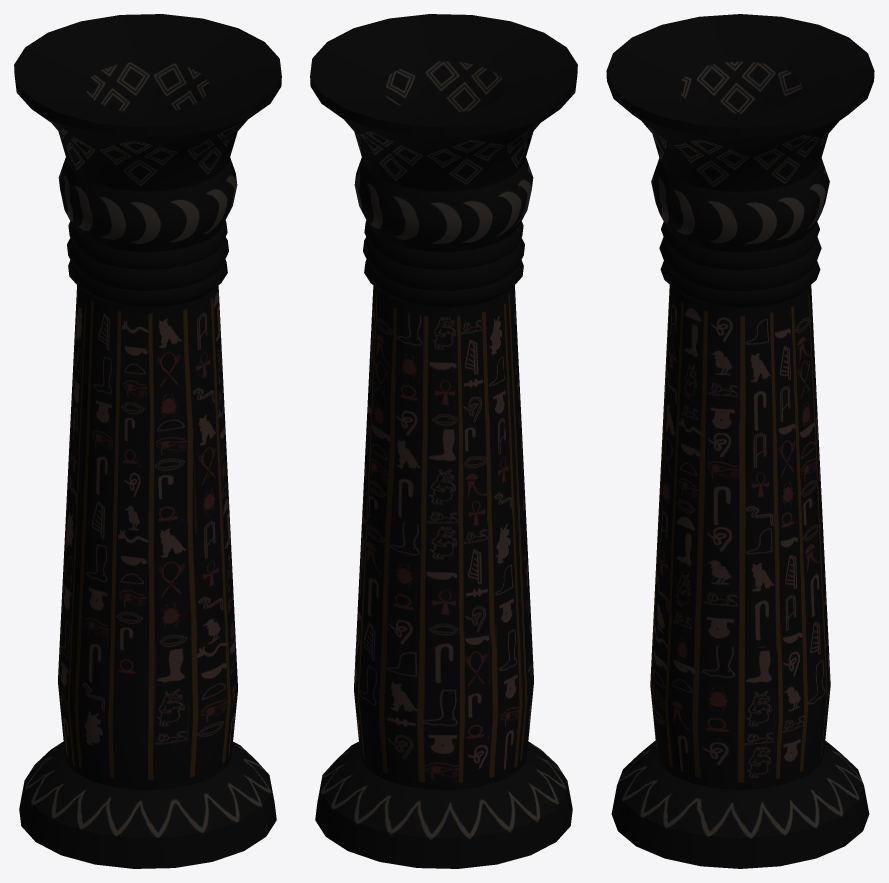
The model's file is egyptian_pillar_v2.glb.
3 views of the same model, side by side, from view 1: azimuth 30°, elevation 25°; view 2: azimuth 150°, elevation 25°; view 3: azimuth 270°, elevation 25° (orthographic).
Parts seen in each view (by area): view 1: pCylinder1; view 2: pCylinder1; view 3: pCylinder1.
Boxes of the visible parts, x1,y1,x2,y2 form: pCylinder1: (14,14,281,868); pCylinder1: (310,14,577,868); pCylinder1: (606,14,874,868).
Size of the model in its own units: 2.02 by 6.14 by 2.01.
1 material, 1 textured.
